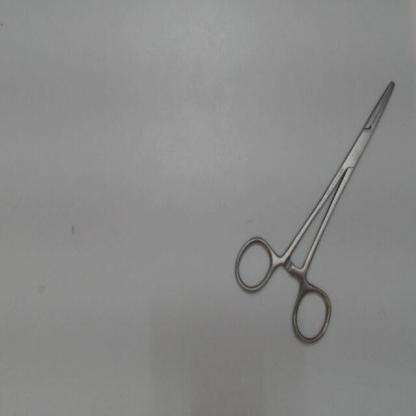Mayo Needle Holder: (226, 70, 406, 353)
